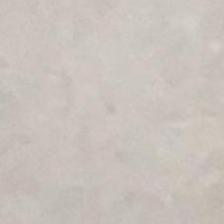Non_Crack: (36, 29, 209, 190)
